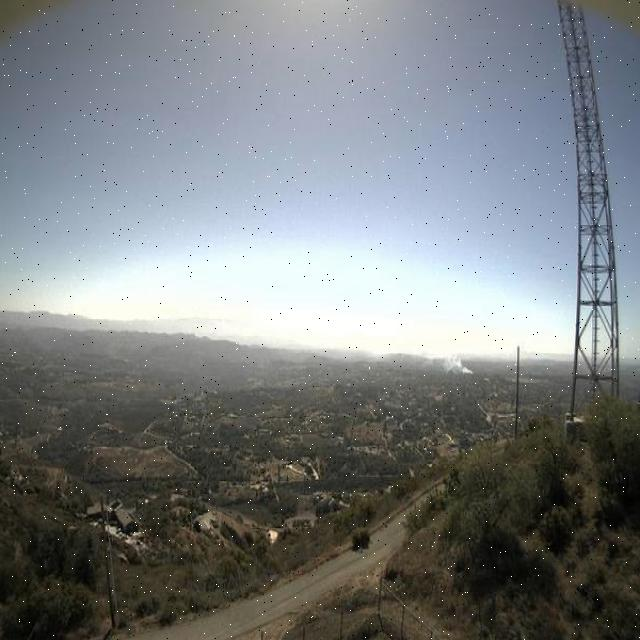smoke: (414, 342, 477, 374)
